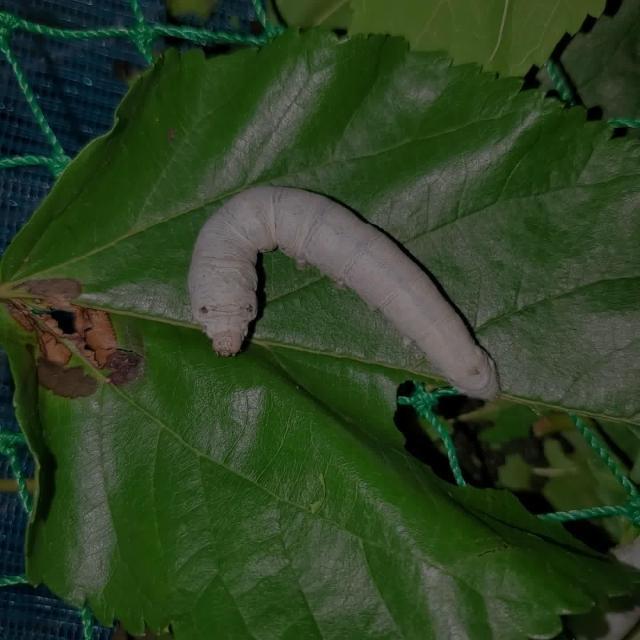Healthy: (181, 180, 501, 416)
